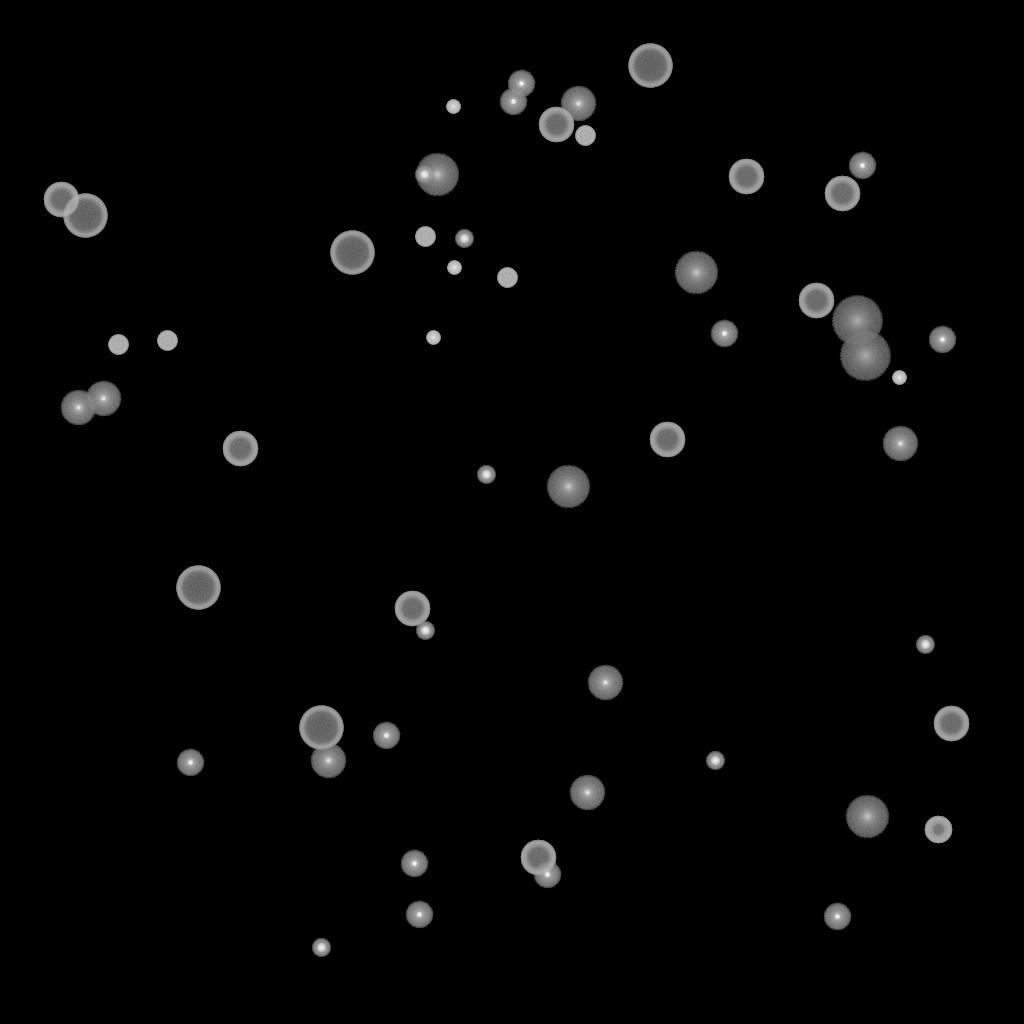depth:-10: (507, 70, 535, 98), (400, 850, 428, 878), (533, 861, 561, 889), (928, 326, 956, 354), (848, 152, 876, 180), (405, 901, 433, 929), (710, 320, 738, 348), (823, 903, 851, 931), (499, 88, 527, 116), (176, 749, 204, 777), (372, 722, 400, 750)
depth:-20: (706, 752, 724, 770), (415, 166, 433, 184), (477, 466, 495, 484), (916, 636, 934, 654), (455, 230, 473, 248), (312, 939, 330, 957), (416, 622, 434, 640)
depth:-30: (426, 331, 440, 345), (447, 261, 461, 275), (446, 100, 460, 114), (892, 371, 906, 385)
depth:-40: (575, 126, 595, 146), (497, 268, 517, 288), (157, 331, 177, 351), (108, 335, 128, 355), (415, 227, 435, 247)
depth:-50: (924, 816, 952, 844)
depth:-60: (798, 283, 834, 319), (649, 422, 685, 458), (394, 591, 430, 627), (222, 431, 258, 467), (728, 159, 764, 195), (520, 840, 556, 876), (933, 706, 969, 742), (824, 176, 860, 212), (538, 107, 574, 143), (43, 182, 79, 218)
depth:-70: (176, 566, 220, 610), (628, 44, 672, 88), (299, 706, 343, 750), (330, 231, 374, 275), (63, 194, 107, 238)
depth:0: (560, 86, 596, 122), (882, 426, 918, 462), (587, 665, 623, 701), (85, 381, 121, 417), (60, 390, 96, 426), (310, 743, 346, 779), (569, 775, 605, 811)
depth:10: (674, 251, 718, 295), (546, 465, 590, 509), (845, 795, 889, 839), (415, 153, 459, 197)
depth:20: (831, 296, 883, 346), (839, 331, 891, 381)
